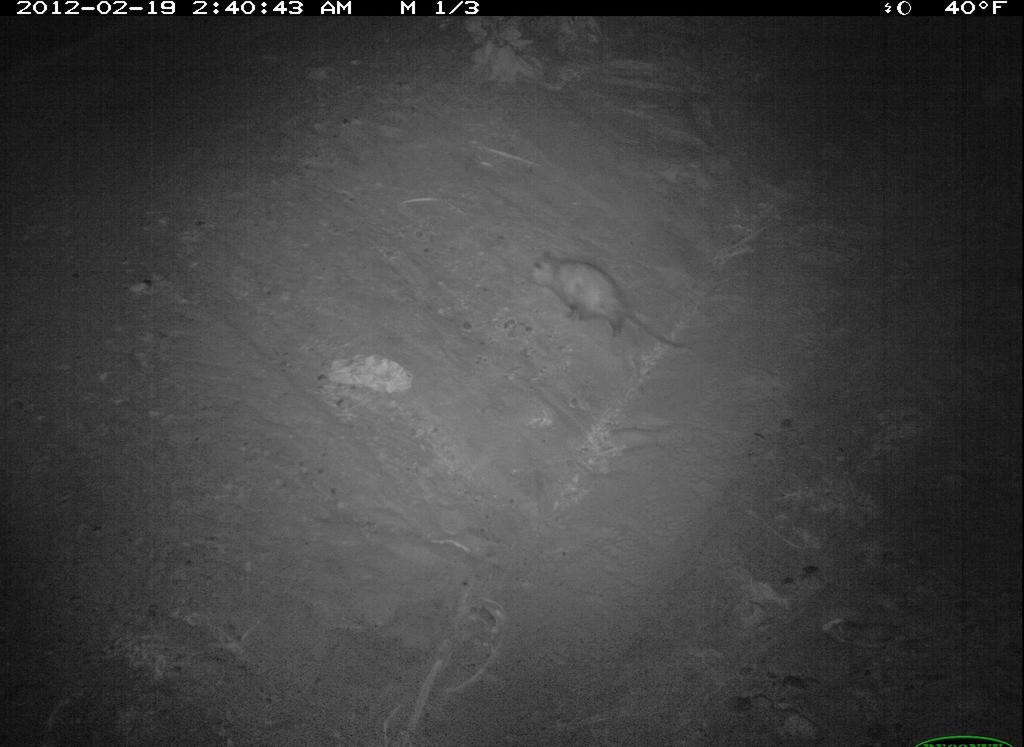opossum: (521, 250, 692, 367)
